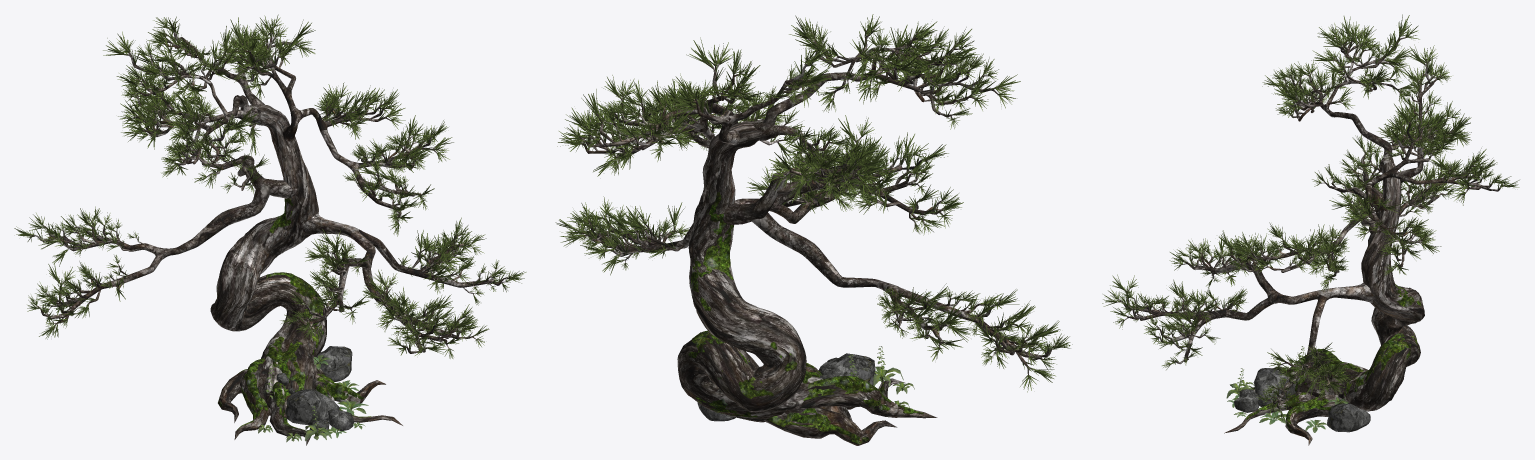
File: Pine.fbx
The picture shows the model from 3 angles, left to right: view 1: azimuth 30°, elevation 25°; view 2: azimuth 150°, elevation 25°; view 3: azimuth 270°, elevation 25°; orthographic projection. The views are drawn at different scales.
Visible parts, largest first — view 1: Pine.Shape; view 2: Pine.Shape; view 3: Pine.Shape.
Part boxes in pixels (x1,y1,x2,y2): Pine.Shape: (14,14,526,445); Pine.Shape: (555,14,1072,445); Pine.Shape: (1102,14,1519,445).
Size of the model in its own units: 1321 by 1028 by 1167.
